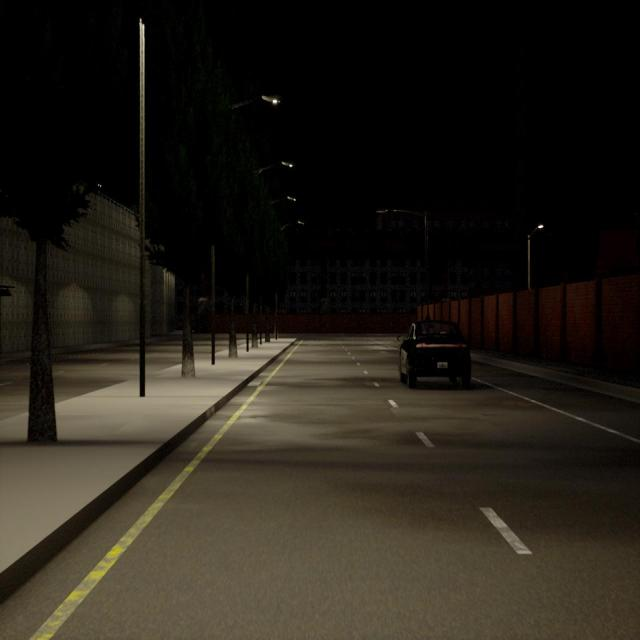Vehicle: (399, 320, 471, 388)
